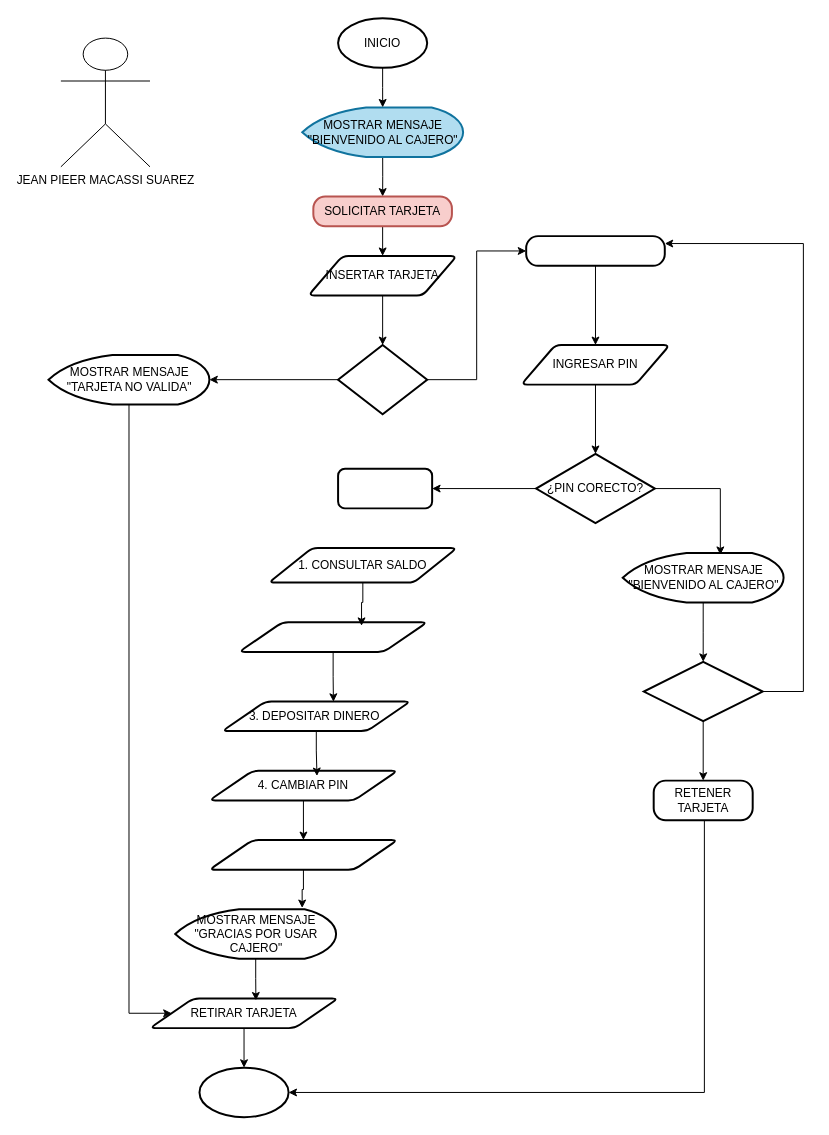
This 829x1135 diagram has some shape labels left out. The shapes that lost their labels are listed below. From the top down, each one's centre as x and y in pixels, then its label:
At point (595, 250): "SOLICITAR PIN".
At point (382, 379): "¿TARJETA VÁLIDA?".
At point (385, 488): "MOSTRAR MENÚ".
At point (333, 636): "2. RETIRAR DINERO".
At point (702, 691): "INTENTOS < 2".
At point (303, 854): "5. SALIR".
At point (243, 1092): "FIN".
